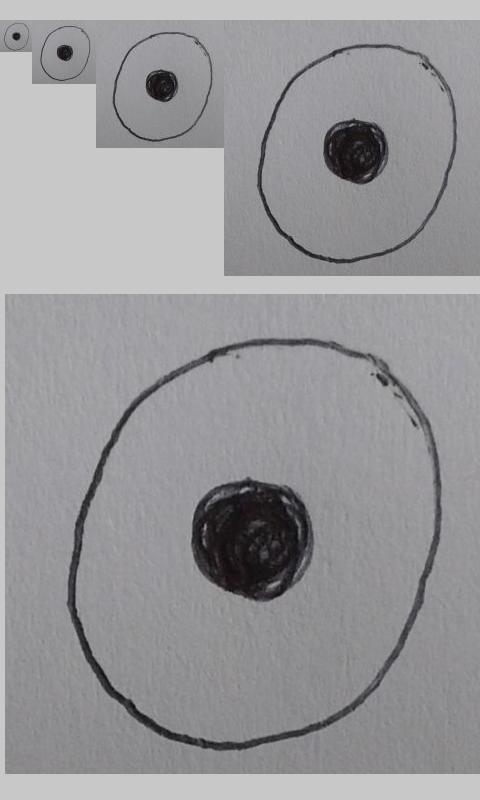radio_button: (65, 335, 445, 752), (255, 43, 457, 264), (111, 30, 213, 143), (39, 24, 91, 82), (3, 22, 30, 51)
